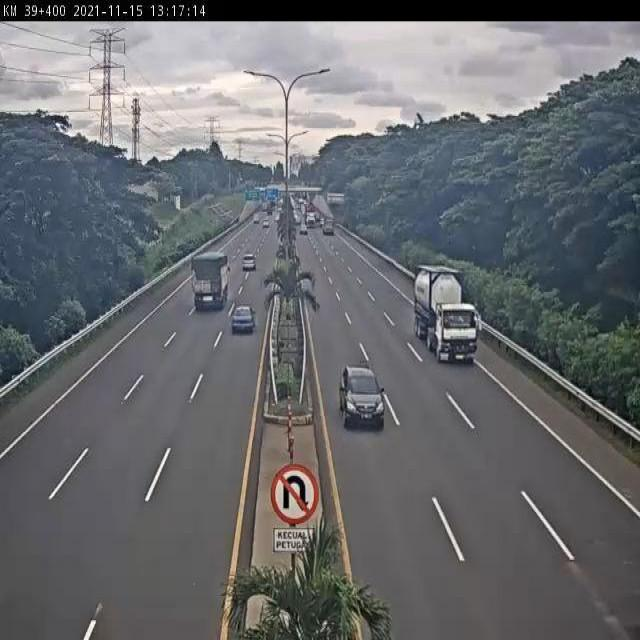car: (337, 366, 386, 430), (230, 301, 256, 336), (240, 250, 258, 274)
truck-l-: (192, 249, 232, 312)
truck-xl-: (412, 261, 481, 367)
